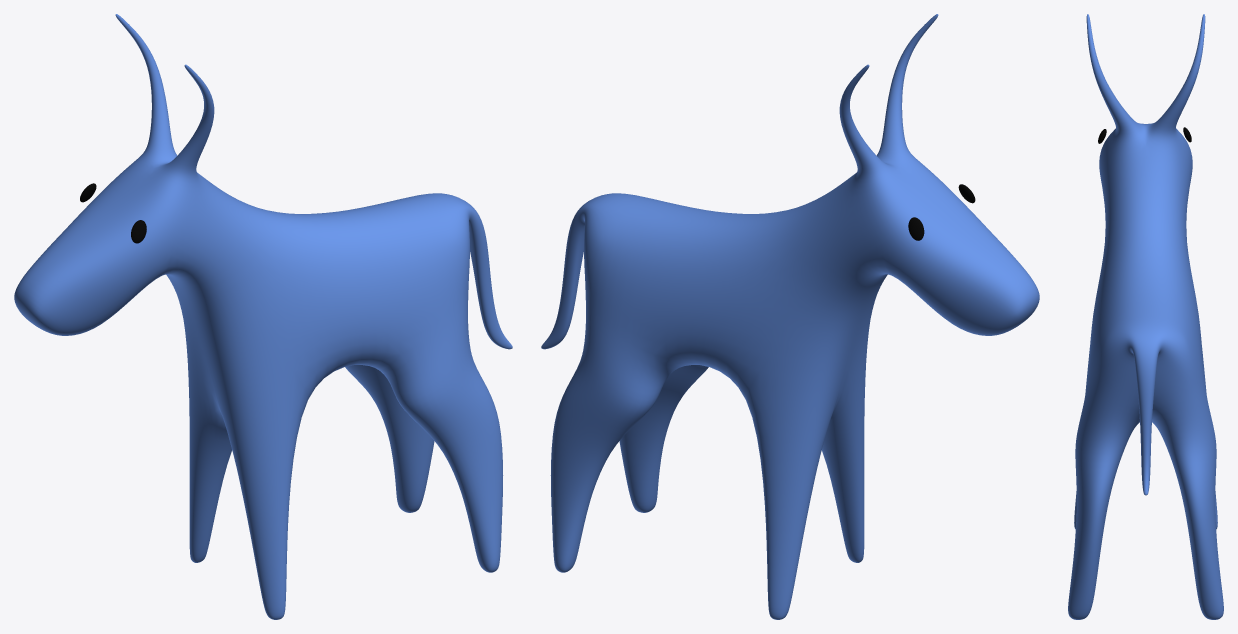
File: Burro.gltf
The picture shows the model from 3 angles, left to right: view 1: azimuth 30°, elevation 25°; view 2: azimuth 150°, elevation 25°; view 3: azimuth 270°, elevation 25°; orthographic projection. The views are drawn at different scales.
Parts seen in each view (by area): view 1: Burro; view 2: Burro; view 3: Burro.
Part boxes in pixels (x1=…): Burro: x1=14, y1=14, x2=512, y2=619; Burro: x1=541, y1=14, x2=1039, y2=619; Burro: x1=1068, y1=14, x2=1223, y2=619.
Size of the model in its own units: 1.79 by 2.01 by 0.5871.
